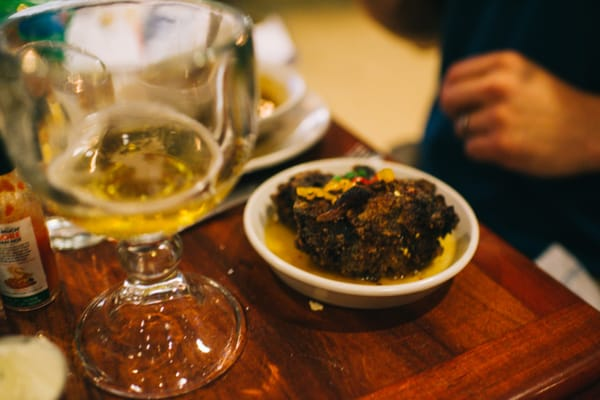sushi: (243, 153, 479, 310)
